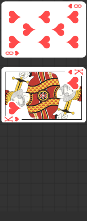8H: (5, 49, 21, 56)
